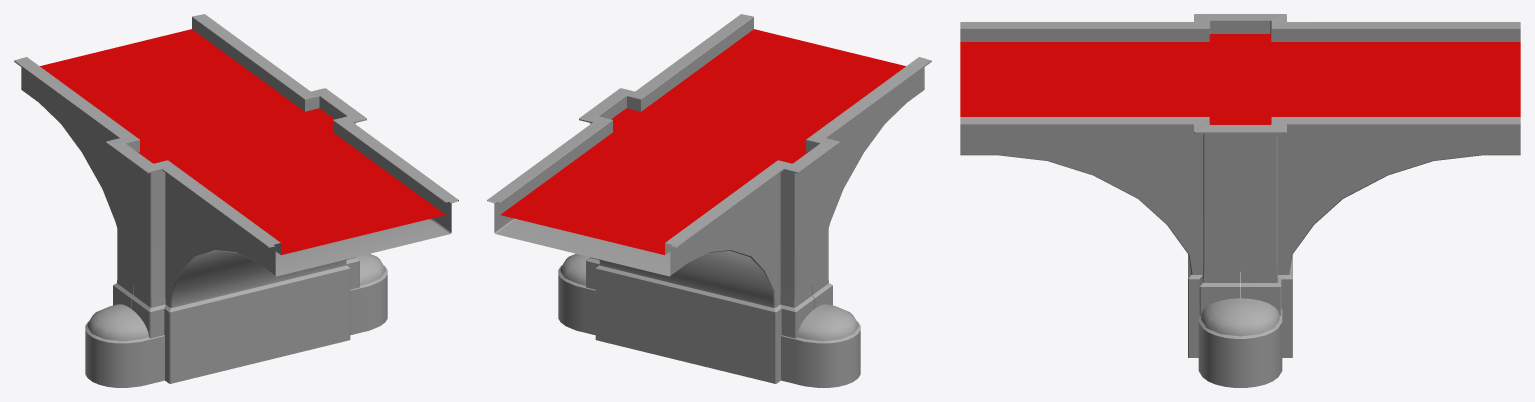
The model's file is bridge_01_mesh.fbx.
The picture shows the model from 3 angles, left to right: view 1: azimuth 30°, elevation 25°; view 2: azimuth 150°, elevation 25°; view 3: azimuth 270°, elevation 25°; orthographic projection. The views are drawn at different scales.
Visible parts, largest first — view 1: polySurface6; view 2: polySurface6; view 3: polySurface6.
Boxes of the visible parts, x1,y1,x2,y2 form: polySurface6: (14, 14, 458, 387); polySurface6: (487, 14, 931, 387); polySurface6: (960, 14, 1520, 387).
Bounding box in the file's own units: 1993 × 1400 × 3000.
